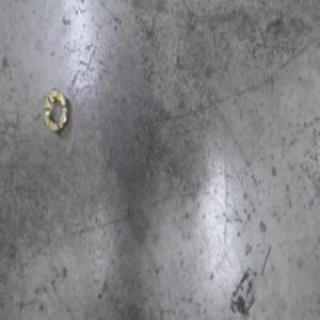Nuttrack_idkeyframe: (41, 84, 71, 136)
